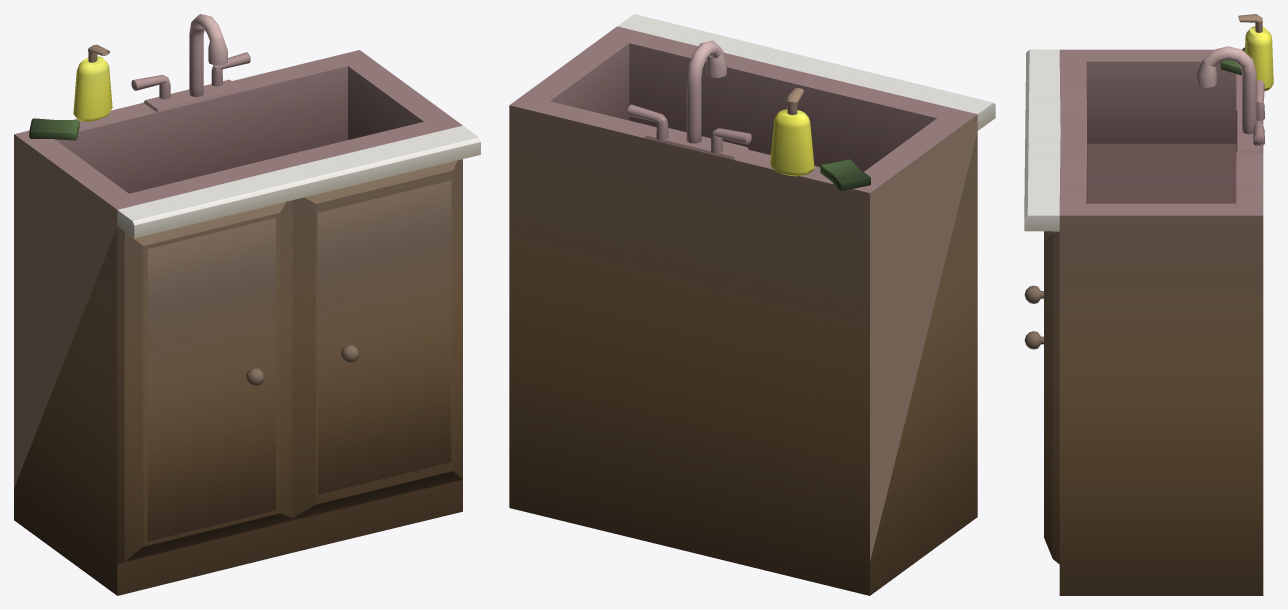
The model's file is kitchensink (1).fbx.
3 renders of one model, left to right at view 1: azimuth 30°, elevation 25°; view 2: azimuth 150°, elevation 25°; view 3: azimuth 270°, elevation 25°, orthographic. The views are drawn at different scales.
Parts seen in each view (by area): view 1: sink1; view 2: sink1; view 3: sink1.
Boxes of the visible parts, x1,y1,x2,y2 form: sink1: [14, 14, 480, 595]; sink1: [509, 14, 995, 595]; sink1: [1024, 14, 1273, 595].
Bounding box in the file's own units: 2.87 × 3.77 × 1.82.
